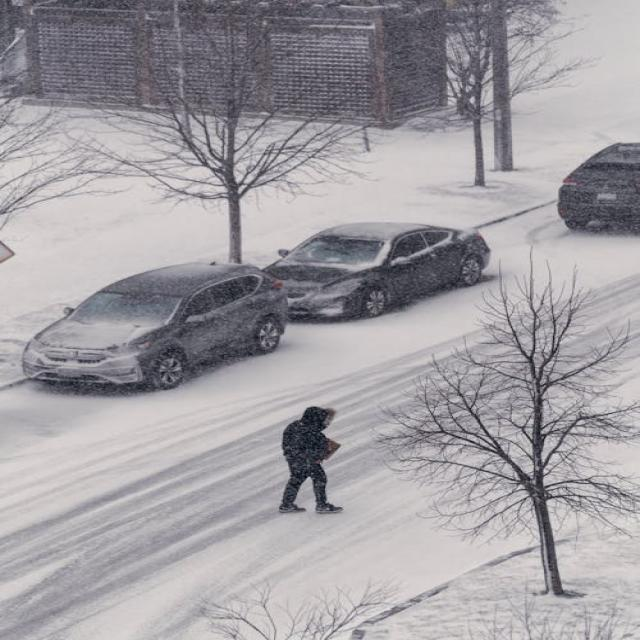car: (21, 261, 291, 391), (262, 221, 493, 321), (556, 140, 640, 232)
